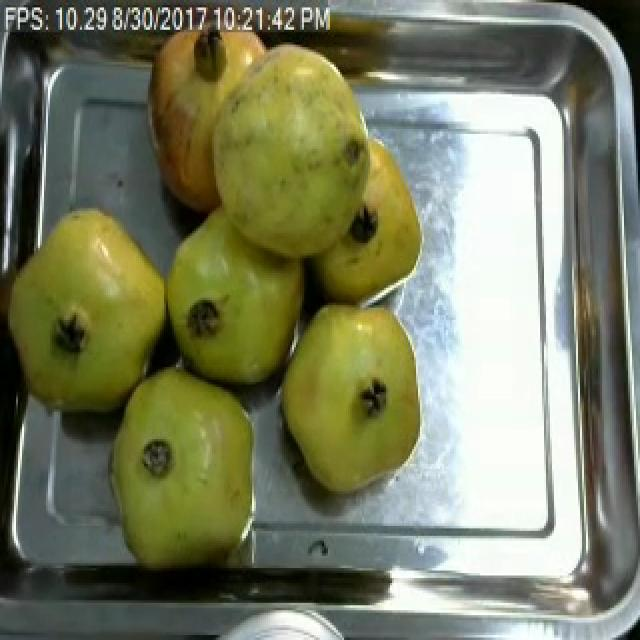fruit: (96, 348, 274, 580), (270, 292, 428, 503), (154, 201, 314, 394), (0, 193, 176, 364)
